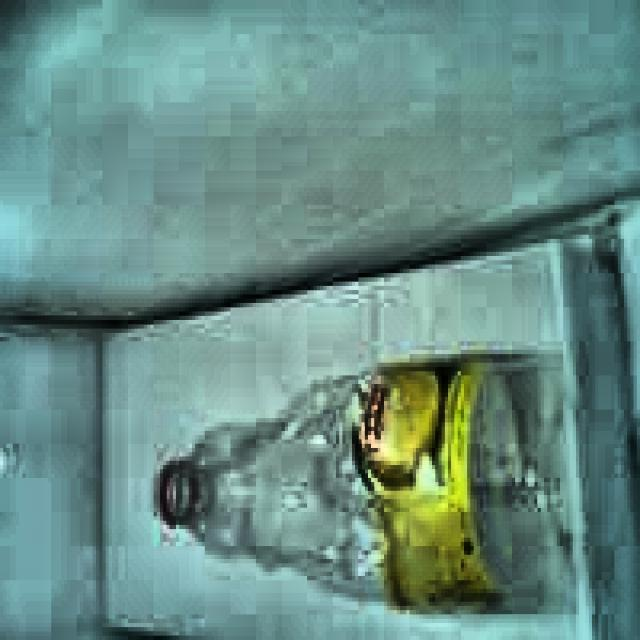Bottles: (146, 341, 608, 619)
